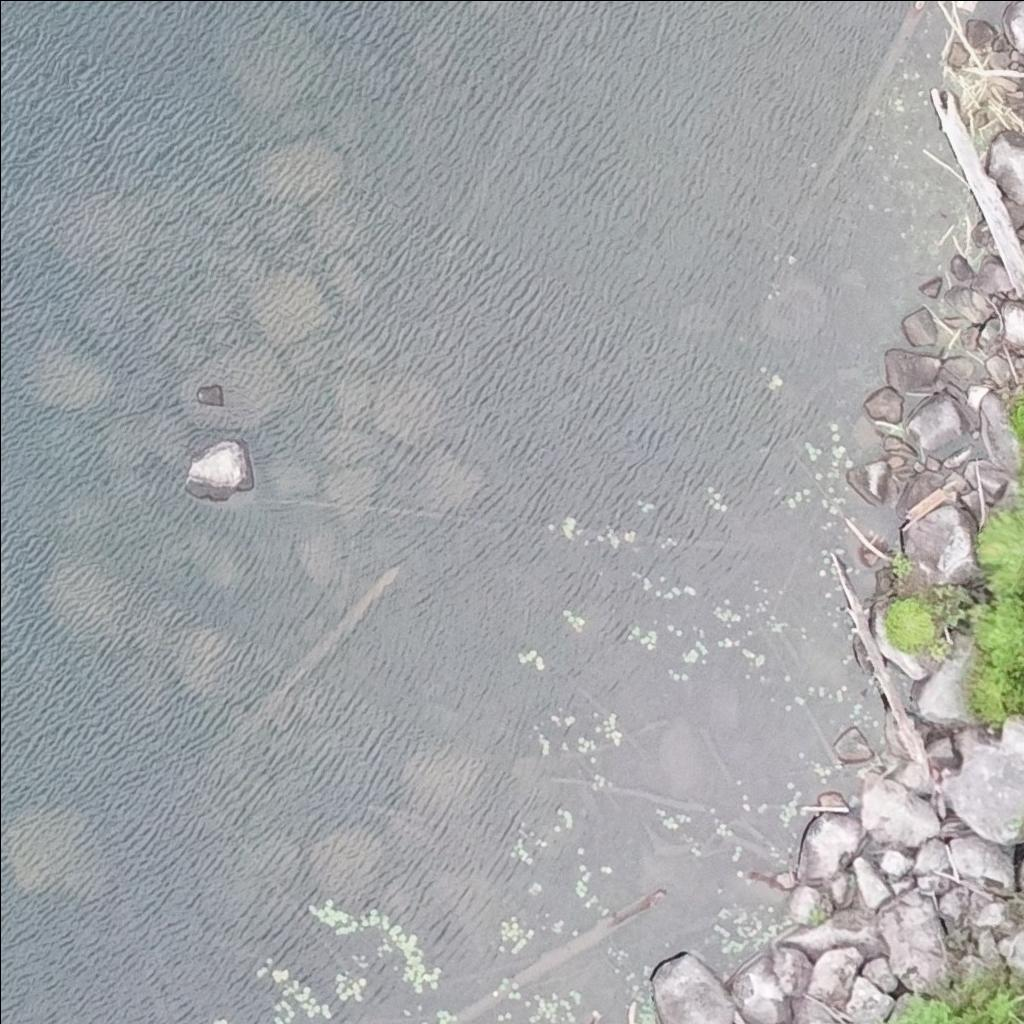crown: (977, 512, 1023, 606), (971, 595, 1023, 675)
